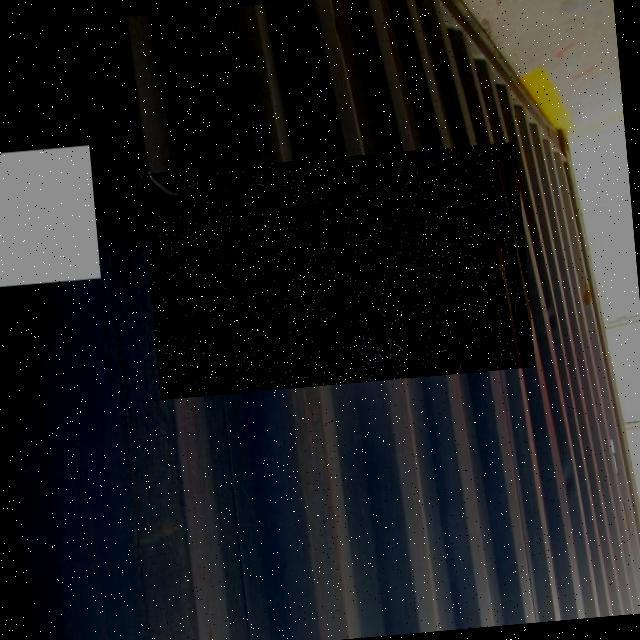Dent: (141, 142, 535, 400)
